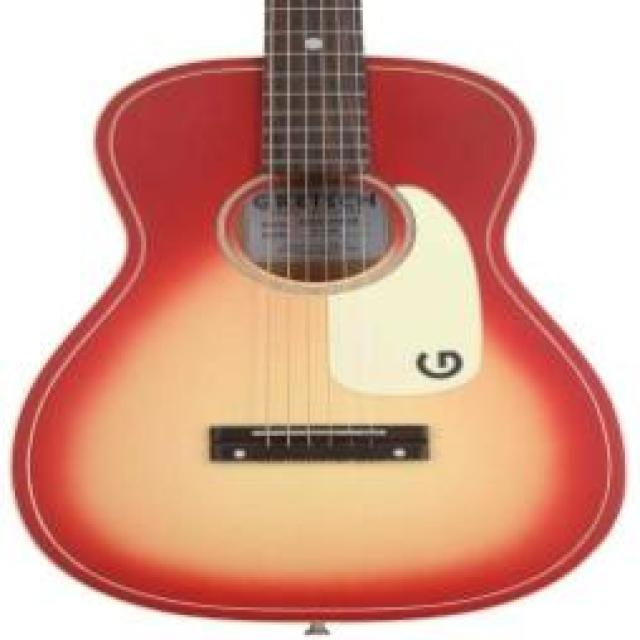acousticguitar: (13, 0, 622, 632)
